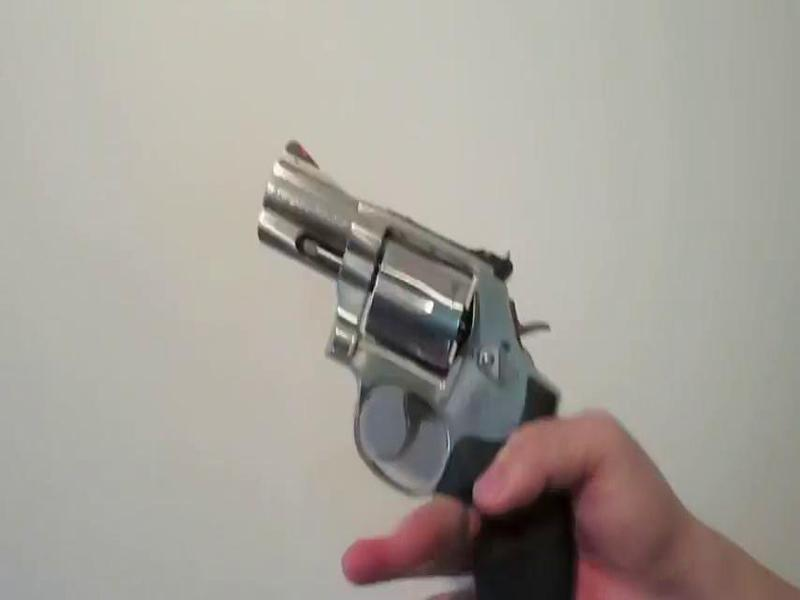Revolver: (237, 104, 618, 600)
